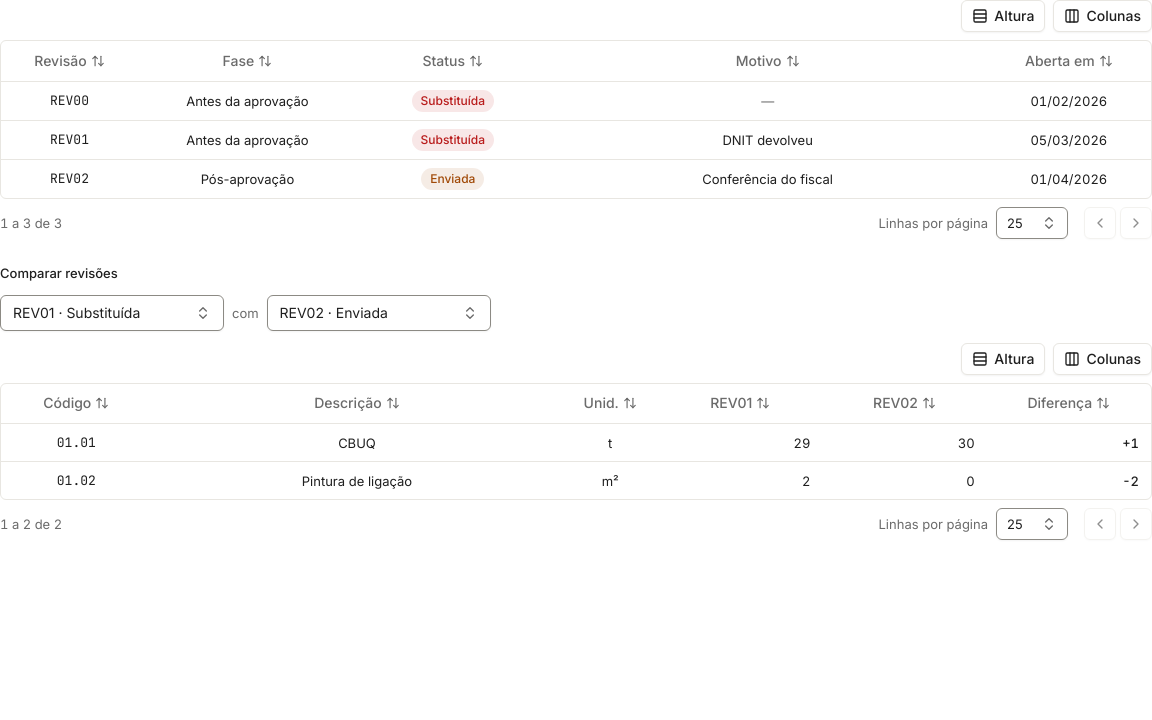
Scenario: RevisoesMedicao › a revisão escolhida num lado não aparece como opção do outro
Click the dropdown named "Comparar": (112, 312) [0, 294, 224, 330]
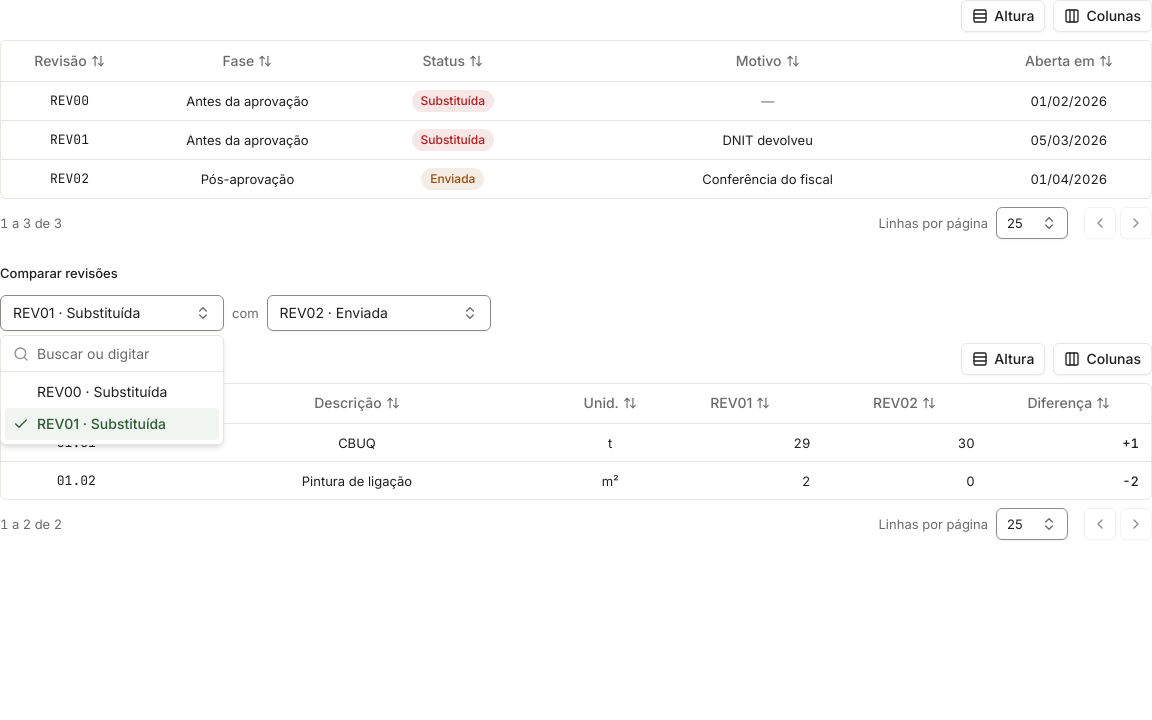
expect the option "REV00 · Substituída" is shown: met, box [37, 383, 167, 400]
expect the option "REV01 · Substituída" is shown: met, box [5, 408, 219, 440]
